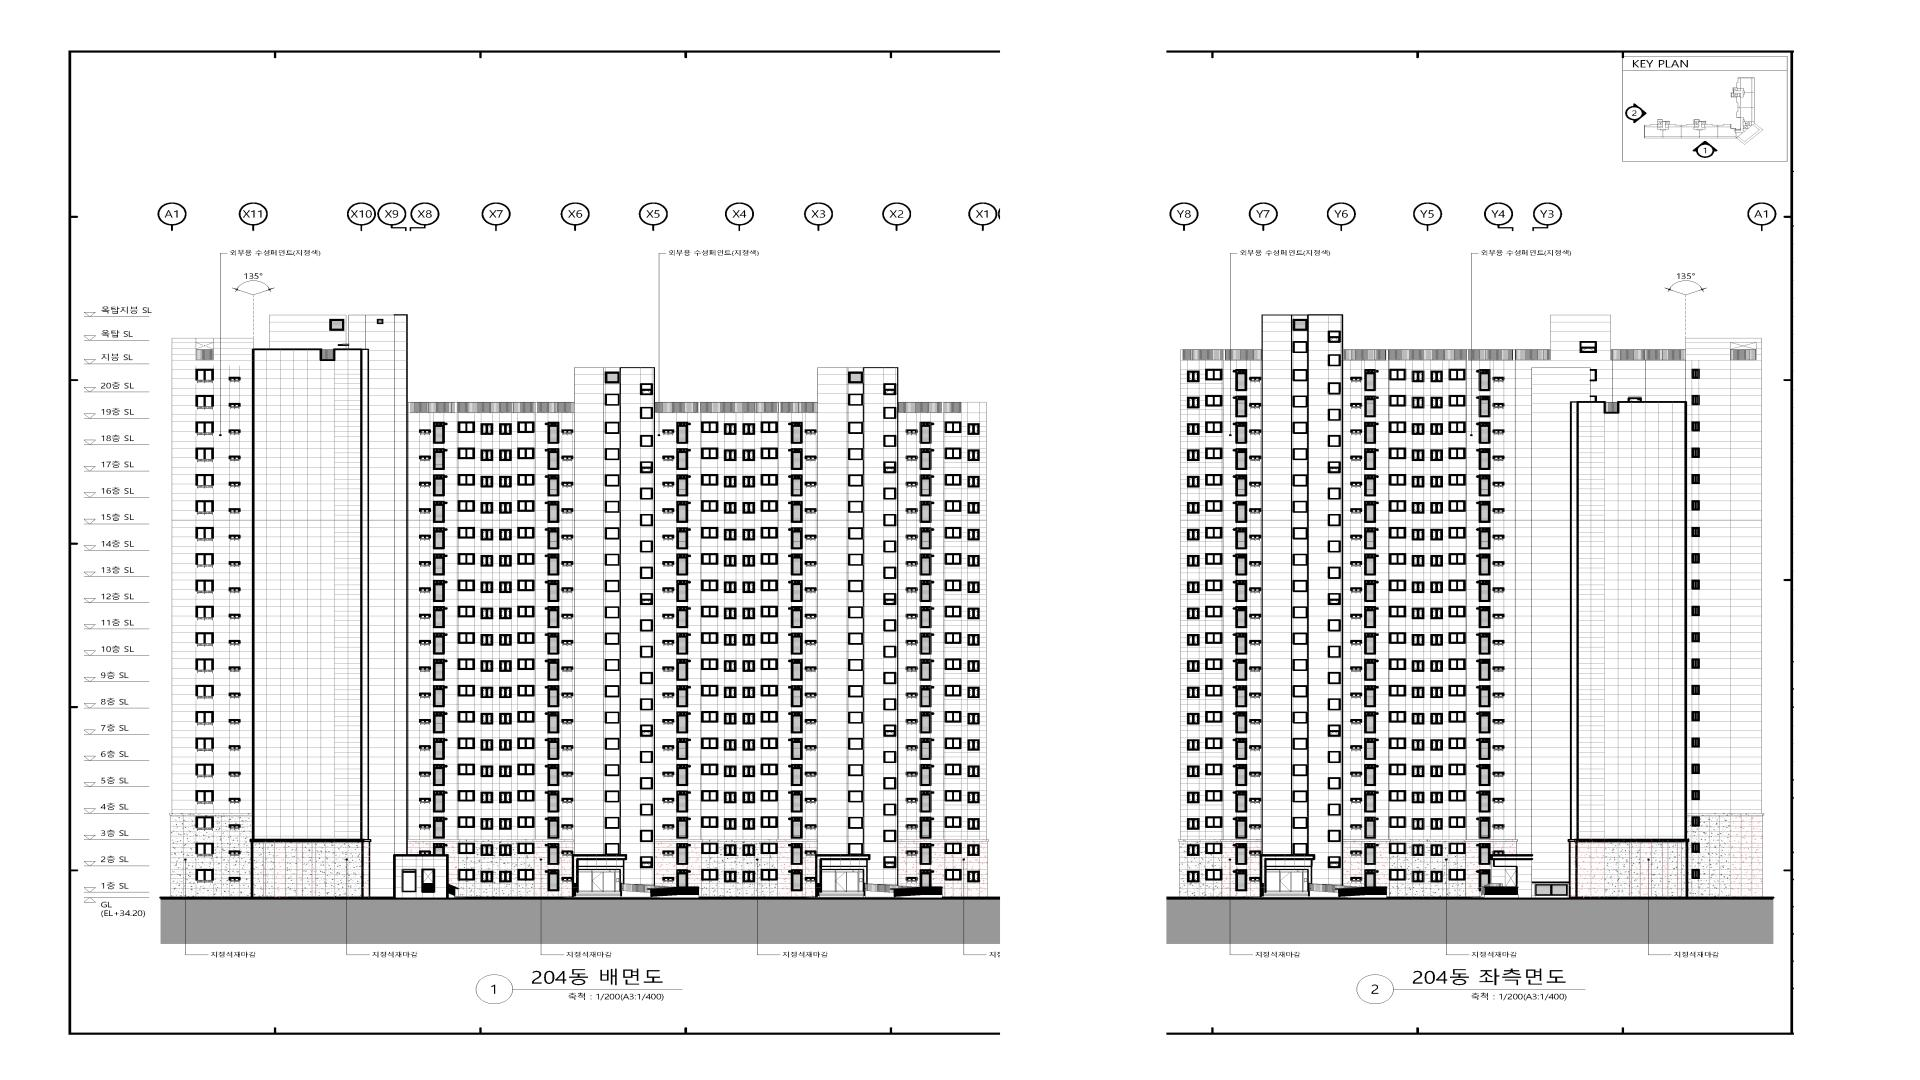door: (421, 869, 435, 893), (592, 870, 604, 891), (847, 870, 858, 891), (1291, 870, 1303, 891), (604, 870, 615, 891), (836, 870, 847, 891), (1280, 870, 1291, 891), (1505, 869, 1516, 886)
wall: (161, 314, 1000, 899), (1167, 314, 1774, 899)
window: (1730, 343, 1756, 360), (401, 869, 417, 893), (195, 343, 214, 360), (822, 870, 836, 891), (1266, 870, 1280, 891), (1364, 843, 1377, 865), (1364, 790, 1377, 812), (1364, 527, 1377, 550), (195, 394, 214, 410), (195, 421, 214, 436), (195, 447, 214, 463), (195, 500, 214, 516), (579, 870, 592, 891), (1364, 712, 1377, 733), (1364, 686, 1377, 707), (1364, 633, 1377, 654), (1364, 580, 1377, 601), (1364, 475, 1377, 496), (195, 473, 214, 488), (195, 527, 214, 542), (195, 554, 214, 568), (195, 579, 214, 593), (195, 605, 214, 620), (195, 633, 214, 647), (195, 658, 214, 673), (195, 684, 214, 699), (195, 711, 214, 725), (195, 737, 214, 752), (195, 764, 214, 778), (195, 790, 214, 804), (195, 369, 214, 384), (195, 816, 214, 831), (195, 843, 214, 857), (195, 869, 214, 884), (919, 422, 931, 444), (547, 816, 559, 839), (547, 843, 559, 865), (547, 869, 559, 891), (791, 869, 803, 891), (676, 843, 688, 865), (791, 843, 803, 865), (791, 816, 803, 839), (676, 816, 688, 839), (676, 790, 688, 812), (676, 764, 688, 786), (791, 790, 803, 812), (791, 764, 803, 786), (676, 711, 688, 733), (791, 711, 803, 733), (676, 684, 688, 707), (676, 580, 688, 603), (791, 580, 803, 603), (791, 607, 803, 629), (676, 527, 688, 550), (676, 501, 688, 524), (433, 422, 444, 444), (547, 422, 559, 444), (676, 422, 688, 444), (791, 422, 803, 444), (676, 448, 688, 471), (919, 501, 931, 524), (919, 580, 931, 603), (920, 605, 932, 628), (920, 633, 932, 655), (919, 711, 931, 733), (919, 737, 931, 760), (919, 764, 931, 786), (919, 790, 931, 812), (919, 816, 931, 839), (919, 843, 931, 865), (433, 475, 444, 497), (547, 448, 559, 471), (433, 527, 444, 550), (547, 527, 559, 550), (547, 580, 559, 603), (433, 580, 444, 603), (547, 658, 559, 680), (547, 711, 559, 733), (547, 737, 559, 760), (434, 737, 446, 760), (433, 764, 444, 786), (433, 816, 444, 839), (547, 764, 559, 786), (547, 790, 559, 812), (1478, 369, 1490, 392), (1364, 369, 1375, 392), (1236, 369, 1247, 392), (1236, 790, 1247, 812), (1236, 816, 1247, 839), (1236, 843, 1247, 865), (1236, 869, 1247, 891), (1364, 816, 1375, 839), (1364, 764, 1375, 786), (1364, 658, 1375, 680), (1364, 448, 1375, 471), (1364, 422, 1375, 444), (1364, 396, 1375, 418), (1478, 396, 1490, 418), (1478, 422, 1490, 444), (1478, 448, 1490, 471), (1478, 527, 1490, 550), (1478, 737, 1490, 760), (1478, 764, 1490, 786), (1478, 790, 1490, 812), (1478, 816, 1490, 839), (1478, 843, 1490, 865), (1478, 869, 1490, 891), (1236, 396, 1247, 418), (1236, 422, 1247, 444), (1236, 448, 1247, 471), (1236, 475, 1247, 497), (1236, 501, 1247, 524), (1236, 658, 1247, 680), (1236, 711, 1247, 733), (1236, 737, 1247, 760), (1236, 764, 1247, 786), (676, 738, 688, 760), (791, 738, 803, 760), (791, 686, 803, 707), (791, 659, 803, 680), (676, 659, 688, 680), (676, 633, 688, 654), (676, 607, 688, 628), (676, 554, 688, 575), (791, 554, 803, 575), (791, 633, 803, 654), (791, 527, 803, 549), (791, 501, 803, 522), (676, 475, 688, 496), (791, 475, 803, 496), (791, 448, 803, 469), (919, 448, 931, 469), (919, 475, 931, 496), (920, 527, 932, 549), (919, 554, 931, 575), (919, 659, 931, 680), (433, 448, 444, 469), (547, 475, 559, 496), (433, 501, 444, 522), (547, 501, 559, 522), (433, 554, 444, 575), (547, 554, 559, 575), (433, 607, 444, 628), (547, 607, 559, 628), (547, 633, 559, 654), (433, 633, 444, 654), (547, 686, 559, 707), (434, 791, 446, 812), (1364, 738, 1375, 760), (1364, 607, 1375, 628), (1364, 554, 1375, 575), (1364, 501, 1375, 522), (1478, 475, 1490, 496), (1478, 501, 1490, 522), (1478, 554, 1490, 575), (1478, 580, 1490, 601), (1478, 607, 1490, 628), (1478, 633, 1490, 654), (1478, 659, 1490, 680), (1478, 686, 1490, 707), (1478, 712, 1490, 733), (1236, 527, 1247, 549), (1236, 554, 1247, 575), (1236, 580, 1247, 601), (1236, 607, 1247, 628), (1236, 633, 1247, 654), (1236, 686, 1247, 707), (1364, 869, 1377, 887), (434, 658, 444, 680), (920, 686, 931, 707), (434, 686, 444, 707), (434, 712, 444, 733), (676, 869, 688, 887), (517, 447, 535, 459), (517, 473, 535, 485), (517, 632, 535, 644), (517, 711, 535, 723), (517, 790, 535, 802), (517, 816, 535, 828), (517, 843, 535, 855), (700, 816, 719, 828), (700, 737, 719, 749), (700, 711, 719, 723), (700, 473, 719, 485), (944, 500, 963, 512), (944, 764, 963, 775), (1448, 447, 1466, 459), (1389, 447, 1407, 459), (1389, 473, 1407, 485), (1389, 500, 1407, 512), (1448, 500, 1466, 512), (1448, 527, 1466, 539), (1448, 553, 1466, 564), (1448, 579, 1466, 591), (1448, 605, 1466, 617), (1389, 579, 1407, 591), (1448, 632, 1466, 644), (1389, 658, 1407, 670), (1448, 684, 1466, 696), (1448, 764, 1466, 775), (1389, 737, 1407, 749), (1448, 790, 1466, 802), (1389, 790, 1407, 802), (1448, 816, 1466, 828), (1448, 843, 1466, 855), (1389, 843, 1407, 855), (1448, 869, 1466, 881), (604, 816, 620, 829), (848, 816, 864, 829), (848, 790, 864, 803), (848, 737, 864, 750), (1292, 737, 1308, 750), (919, 869, 931, 886), (458, 447, 475, 459), (458, 473, 475, 485), (517, 500, 534, 512), (458, 500, 475, 512), (458, 527, 475, 539), (517, 527, 534, 539), (517, 554, 534, 566), (458, 579, 475, 591), (517, 579, 534, 591), (458, 605, 475, 617), (517, 605, 534, 617), (458, 632, 475, 644), (458, 658, 475, 670), (517, 658, 534, 670), (458, 684, 475, 696), (517, 684, 534, 696), (458, 711, 475, 723), (458, 737, 475, 749), (517, 737, 534, 749), (458, 764, 475, 775), (517, 764, 534, 775), (458, 790, 475, 802), (458, 816, 475, 828), (458, 843, 475, 855), (458, 869, 475, 881), (517, 869, 534, 881), (702, 869, 719, 881), (761, 869, 778, 881), (761, 843, 778, 855), (702, 843, 719, 855), (761, 816, 778, 828), (702, 790, 719, 802), (761, 790, 778, 802), (702, 764, 719, 775), (761, 764, 778, 775), (761, 737, 778, 749), (761, 711, 778, 723), (702, 684, 719, 696), (761, 684, 778, 696), (702, 658, 719, 670), (761, 658, 778, 670), (761, 632, 778, 644), (702, 632, 719, 644), (702, 605, 719, 617), (761, 605, 778, 617), (702, 579, 719, 591), (761, 553, 778, 564), (702, 553, 719, 564), (761, 526, 778, 538), (761, 500, 778, 512), (702, 500, 719, 512), (761, 473, 778, 485), (761, 447, 778, 459), (702, 447, 719, 459), (944, 447, 961, 459), (944, 473, 961, 485), (944, 527, 961, 539), (944, 553, 961, 564), (944, 579, 961, 591), (944, 605, 961, 617), (944, 632, 961, 644), (944, 658, 961, 670), (944, 684, 961, 696), (944, 711, 961, 723), (944, 737, 961, 749), (944, 790, 961, 802), (944, 816, 961, 828), (944, 843, 961, 855), (944, 869, 961, 881), (1580, 342, 1597, 353), (1389, 369, 1406, 381), (1389, 394, 1406, 406), (1389, 605, 1406, 617), (1448, 658, 1465, 670), (1389, 684, 1406, 696), (1389, 711, 1406, 723), (1449, 711, 1466, 723), (1449, 737, 1466, 749), (1389, 764, 1406, 775), (1389, 816, 1406, 828), (1292, 369, 1309, 381), (1292, 501, 1309, 513), (1292, 843, 1309, 855), (1535, 884, 1552, 895), (1551, 884, 1568, 895), (1389, 869, 1406, 881), (1205, 869, 1222, 881), (1205, 843, 1222, 855), (1205, 816, 1222, 828), (1205, 790, 1222, 802), (1205, 764, 1222, 775), (1205, 737, 1222, 749), (1205, 711, 1222, 723), (1205, 684, 1222, 696), (1205, 658, 1222, 670), (1205, 632, 1222, 644), (1205, 605, 1222, 617), (1205, 579, 1222, 591), (1205, 553, 1222, 564), (1205, 526, 1222, 538), (1205, 500, 1222, 512), (1205, 473, 1222, 485), (1205, 447, 1222, 459), (517, 422, 535, 433), (1448, 369, 1466, 380), (1448, 396, 1466, 406), (1448, 422, 1466, 433), (1448, 475, 1466, 485), (605, 737, 620, 750), (848, 372, 864, 384), (848, 394, 864, 406), (604, 475, 620, 487), (604, 554, 620, 566), (604, 712, 620, 724), (848, 843, 864, 855), (848, 712, 864, 724), (848, 633, 864, 645), (848, 448, 864, 460), (1292, 319, 1308, 331), (1292, 342, 1308, 353), (1292, 396, 1308, 407), (1292, 422, 1308, 434), (1292, 448, 1308, 460), (1292, 475, 1308, 487), (1292, 527, 1308, 539), (1292, 554, 1308, 566), (1292, 580, 1308, 592), (1292, 607, 1308, 618), (1292, 633, 1308, 645), (1292, 659, 1308, 671), (1292, 686, 1308, 698), (1292, 712, 1308, 724), (1292, 765, 1308, 777), (1292, 790, 1308, 802), (1292, 816, 1308, 828), (944, 422, 961, 433), (458, 422, 475, 433), (702, 422, 719, 433), (761, 422, 778, 433), (458, 554, 475, 564), (761, 580, 778, 591), (702, 527, 719, 538), (1205, 369, 1222, 380), (1389, 422, 1406, 433), (1389, 527, 1406, 538), (1389, 554, 1406, 564), (1389, 633, 1406, 644), (1205, 422, 1222, 433), (1205, 396, 1222, 406), (884, 856, 897, 869), (640, 406, 653, 419), (884, 406, 897, 419), (884, 777, 897, 790), (640, 618, 653, 632), (640, 671, 653, 684), (640, 750, 653, 764), (640, 777, 653, 790), (640, 803, 653, 816), (640, 829, 653, 843), (1328, 750, 1341, 764), (1328, 803, 1341, 816), (330, 319, 344, 331), (605, 372, 620, 384), (605, 394, 620, 406), (605, 422, 620, 434), (605, 448, 620, 460), (605, 501, 620, 513), (605, 527, 620, 539), (605, 580, 620, 592), (605, 607, 620, 618), (605, 633, 620, 645), (605, 659, 620, 671), (605, 686, 620, 698), (605, 765, 620, 777), (605, 790, 620, 802), (605, 843, 620, 855), (848, 765, 862, 777), (848, 686, 862, 698), (848, 659, 862, 671), (848, 607, 862, 618), (848, 580, 862, 592), (848, 554, 862, 566), (848, 527, 862, 539), (848, 501, 862, 513), (848, 475, 862, 487), (848, 422, 862, 434), (967, 423, 980, 435), (640, 462, 653, 473), (640, 593, 653, 605), (640, 724, 653, 736), (640, 856, 653, 868), (884, 725, 897, 737), (884, 593, 897, 605), (884, 462, 897, 473), (724, 870, 737, 882), (742, 870, 756, 882), (742, 844, 756, 856), (724, 844, 737, 856), (724, 818, 737, 829), (742, 818, 756, 829), (742, 791, 756, 803), (724, 791, 737, 803), (724, 765, 737, 777), (742, 765, 756, 777), (742, 738, 756, 750), (724, 634, 737, 646), (724, 608, 737, 620), (724, 582, 737, 593), (742, 582, 756, 593), (724, 555, 737, 567), (742, 555, 756, 567), (742, 529, 756, 541), (724, 450, 737, 462), (967, 765, 980, 777), (967, 791, 980, 803), (967, 818, 980, 829), (967, 844, 980, 856), (480, 423, 493, 435), (640, 384, 653, 396), (724, 423, 737, 435), (742, 423, 756, 435), (884, 384, 897, 396), (480, 450, 493, 462), (498, 450, 512, 462), (480, 476, 493, 488), (498, 476, 512, 488), (498, 502, 512, 514), (480, 529, 493, 541), (498, 529, 512, 541), (480, 555, 493, 567), (498, 555, 512, 567), (480, 582, 493, 593), (480, 634, 493, 646), (498, 765, 512, 777), (480, 791, 493, 803), (498, 791, 512, 803), (480, 818, 493, 829), (480, 844, 493, 856), (498, 844, 512, 856), (480, 870, 493, 882), (498, 870, 512, 882), (884, 435, 897, 447), (884, 488, 897, 500), (884, 514, 897, 526), (884, 541, 897, 553), (884, 567, 897, 579), (884, 620, 897, 632), (884, 646, 897, 658), (884, 673, 897, 684), (884, 699, 897, 711), (884, 750, 897, 762), (884, 803, 897, 815), (884, 829, 897, 841), (640, 435, 653, 447), (640, 488, 653, 500), (640, 514, 653, 526), (640, 541, 653, 553), (640, 567, 653, 579), (640, 646, 653, 658), (640, 699, 653, 711), (967, 450, 980, 462), (967, 476, 980, 488), (967, 529, 980, 541), (967, 555, 980, 567), (967, 582, 980, 593), (967, 634, 980, 646), (967, 661, 980, 673), (1328, 331, 1341, 343), (1187, 371, 1200, 382), (1328, 462, 1341, 473), (1328, 593, 1341, 605), (1187, 397, 1200, 409), (1187, 423, 1200, 435), (1187, 450, 1200, 462), (1187, 476, 1200, 488), (1187, 502, 1200, 514), (1187, 529, 1200, 541), (1187, 555, 1200, 567), (1187, 582, 1200, 593), (1187, 608, 1200, 620), (1187, 634, 1200, 646), (1187, 661, 1200, 673), (1187, 687, 1200, 699), (1187, 712, 1200, 724), (1187, 765, 1200, 777), (1187, 791, 1200, 803), (1187, 818, 1200, 829), (1187, 844, 1200, 856), (1187, 870, 1200, 882), (1411, 870, 1424, 882), (1411, 791, 1424, 803), (1328, 382, 1341, 394), (1328, 409, 1341, 421), (1328, 435, 1341, 447), (1328, 488, 1341, 500), (1328, 514, 1341, 526), (1328, 541, 1341, 553), (1328, 567, 1341, 579), (1328, 620, 1341, 632), (1328, 646, 1341, 658), (1328, 725, 1341, 737), (1328, 856, 1341, 868), (1328, 355, 1341, 367), (1328, 673, 1341, 684), (1328, 699, 1341, 711), (1328, 777, 1341, 789), (1328, 829, 1341, 841), (433, 843, 444, 855), (724, 476, 736, 488), (968, 870, 980, 882), (500, 423, 512, 435), (500, 582, 512, 593), (500, 608, 512, 620), (500, 634, 512, 646), (1431, 371, 1443, 382), (1412, 371, 1424, 382), (1431, 870, 1443, 882), (1431, 844, 1443, 856), (1412, 844, 1424, 856), (1412, 818, 1424, 829), (1431, 818, 1443, 829), (1431, 791, 1443, 803), (1412, 765, 1424, 777), (1431, 765, 1443, 777), (1412, 713, 1424, 725), (1412, 661, 1424, 673), (1412, 634, 1424, 646), (1431, 634, 1443, 646), (1431, 608, 1443, 620), (1412, 608, 1424, 620), (1412, 582, 1424, 593), (1431, 582, 1443, 593), (1412, 555, 1424, 567), (1431, 555, 1443, 567), (1431, 529, 1443, 541), (1412, 529, 1424, 541), (1412, 476, 1424, 488), (1431, 476, 1443, 488), (1412, 450, 1424, 462), (1431, 450, 1443, 462), (1412, 423, 1424, 435), (1431, 423, 1443, 435), (1412, 397, 1424, 409), (1431, 397, 1443, 409), (724, 740, 737, 750), (724, 713, 737, 724), (742, 713, 756, 724), (742, 687, 756, 698), (724, 687, 737, 698), (742, 661, 756, 671), (742, 634, 756, 645), (742, 608, 756, 618), (724, 502, 737, 513), (742, 502, 756, 513), (742, 476, 756, 487), (742, 450, 756, 460), (967, 687, 980, 698), (967, 713, 980, 724), (480, 502, 493, 513), (480, 608, 493, 618), (480, 661, 493, 671), (480, 687, 493, 698), (498, 687, 512, 698), (480, 713, 493, 724), (498, 713, 512, 724), (480, 740, 493, 750), (498, 740, 512, 750), (480, 766, 493, 777), (498, 819, 512, 829), (967, 502, 980, 513), (967, 608, 980, 618), (1187, 740, 1200, 750), (1411, 740, 1424, 750), (724, 661, 736, 671), (724, 529, 736, 539), (968, 740, 980, 750), (500, 661, 512, 671), (1431, 740, 1443, 750), (1431, 713, 1443, 724), (1412, 687, 1424, 698), (1431, 687, 1443, 698), (1431, 661, 1443, 671), (1412, 502, 1424, 513), (1431, 502, 1443, 513), (615, 870, 620, 891), (1303, 870, 1308, 891), (1691, 632, 1700, 642), (1691, 816, 1700, 827), (662, 877, 675, 884), (662, 771, 675, 778), (662, 745, 675, 752), (662, 719, 675, 725), (662, 666, 675, 673), (662, 640, 675, 646), (662, 534, 675, 541), (804, 560, 818, 567), (804, 613, 818, 620), (228, 402, 241, 409), (228, 481, 241, 488), (228, 508, 241, 514), (228, 560, 241, 567), (228, 587, 241, 593), (228, 613, 241, 620), (228, 666, 241, 673), (228, 692, 241, 699), (228, 719, 241, 725), (228, 745, 241, 752), (228, 798, 241, 804), (228, 824, 241, 831), (228, 851, 241, 857), (228, 877, 241, 884), (418, 534, 431, 541), (1249, 429, 1262, 435), (1249, 692, 1262, 699), (1249, 640, 1262, 646), (858, 870, 862, 891), (1692, 394, 1700, 405), (1692, 447, 1700, 458), (1692, 473, 1700, 484), (1692, 500, 1700, 510), (1692, 579, 1700, 589), (1692, 658, 1700, 669), (1692, 684, 1700, 695), (1692, 711, 1700, 721), (1692, 737, 1700, 748), (1692, 764, 1700, 774), (1692, 790, 1700, 800), (1692, 843, 1700, 853), (1692, 869, 1700, 880), (562, 455, 574, 462), (562, 481, 574, 488), (562, 508, 574, 514), (562, 534, 574, 541), (562, 560, 574, 567), (562, 587, 574, 593), (562, 640, 574, 646), (562, 666, 574, 673), (562, 692, 574, 699), (562, 719, 574, 725), (562, 745, 574, 752), (562, 771, 574, 778), (562, 798, 574, 804), (562, 824, 574, 831), (562, 851, 574, 857), (662, 851, 674, 857), (662, 824, 674, 831), (662, 798, 674, 804), (662, 692, 674, 699), (662, 613, 674, 620), (662, 560, 674, 567), (662, 508, 674, 514), (662, 481, 674, 488), (804, 455, 816, 462), (804, 481, 816, 488), (662, 429, 674, 435), (804, 508, 816, 514), (804, 534, 816, 541), (804, 587, 816, 593), (804, 640, 816, 646), (804, 666, 816, 673), (804, 692, 816, 699), (804, 719, 816, 725), (804, 745, 816, 752), (804, 771, 816, 778), (804, 798, 816, 804), (804, 824, 816, 831), (804, 851, 816, 857), (804, 877, 816, 884), (906, 877, 918, 884), (906, 824, 918, 831), (906, 798, 918, 804), (906, 771, 918, 778), (906, 745, 918, 752), (906, 719, 918, 725), (906, 692, 918, 699), (906, 666, 918, 673), (906, 640, 918, 646), (906, 613, 918, 620), (906, 587, 918, 593), (906, 560, 918, 567), (906, 534, 918, 541), (906, 508, 918, 514), (906, 481, 918, 488), (228, 534, 240, 541), (228, 640, 240, 646), (228, 771, 240, 778), (419, 455, 431, 462), (419, 481, 431, 488), (419, 508, 431, 514), (419, 587, 431, 593), (419, 640, 431, 646), (419, 666, 431, 673), (419, 692, 431, 699), (419, 719, 431, 725), (419, 745, 431, 752), (419, 771, 431, 778), (419, 798, 431, 804), (419, 824, 431, 831), (1590, 369, 1597, 381), (1249, 560, 1261, 567), (1350, 534, 1362, 541), (1249, 534, 1261, 541), (1249, 508, 1261, 514), (1350, 508, 1362, 514), (1350, 481, 1362, 488), (1350, 455, 1362, 462), (1350, 402, 1362, 409), (1249, 402, 1261, 409), (1249, 455, 1261, 462), (1249, 481, 1261, 488), (1493, 560, 1505, 567), (1493, 587, 1505, 593), (1493, 613, 1505, 620), (1493, 640, 1505, 646), (1493, 666, 1505, 673), (1493, 692, 1505, 699), (1493, 719, 1505, 725), (1493, 771, 1505, 778), (1493, 824, 1505, 831), (1249, 851, 1261, 857), (1249, 771, 1261, 778), (1350, 771, 1362, 778), (1249, 745, 1261, 752), (1249, 719, 1261, 725), (1350, 719, 1362, 725), (1350, 692, 1362, 699), (1350, 666, 1362, 673), (1249, 666, 1261, 673), (1350, 640, 1362, 646), (1350, 613, 1362, 620), (1249, 613, 1261, 620), (1249, 587, 1261, 593), (1350, 587, 1362, 593), (1493, 481, 1505, 488), (1493, 508, 1505, 514), (1493, 534, 1505, 541), (1692, 369, 1700, 378), (1692, 422, 1700, 431), (1692, 527, 1700, 537), (1692, 554, 1700, 563), (1692, 607, 1700, 616), (562, 877, 572, 884), (228, 377, 241, 382), (228, 456, 241, 462), (1249, 798, 1262, 803), (906, 430, 918, 435), (562, 615, 574, 620), (662, 456, 674, 462), (419, 430, 431, 435), (562, 430, 574, 435), (804, 430, 816, 435), (906, 851, 918, 856), (906, 456, 918, 462), (228, 430, 240, 435), (419, 562, 431, 567), (419, 615, 431, 620), (1493, 377, 1505, 382), (1350, 377, 1362, 382), (1249, 377, 1261, 382), (1350, 562, 1362, 567), (1350, 430, 1362, 435), (1493, 745, 1505, 750), (1493, 798, 1505, 803), (1350, 877, 1362, 882), (1350, 851, 1362, 856), (1249, 877, 1261, 882), (1350, 824, 1362, 829), (1350, 798, 1362, 803), (1249, 824, 1261, 829), (1350, 745, 1362, 750), (1493, 404, 1505, 409), (1493, 430, 1505, 435), (1493, 456, 1505, 462), (419, 851, 431, 855), (1493, 851, 1505, 855), (377, 319, 384, 324)
